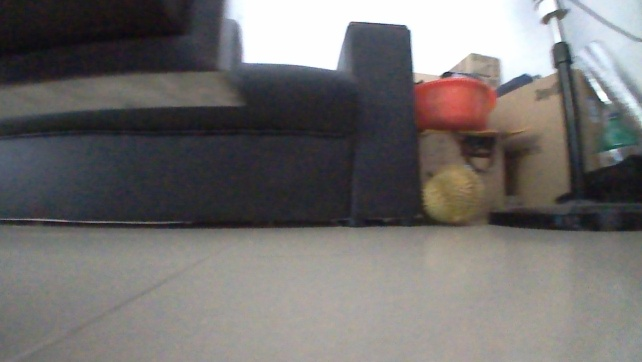chair_base: (483, 190, 641, 235)
sofa1: (0, 11, 431, 232)
